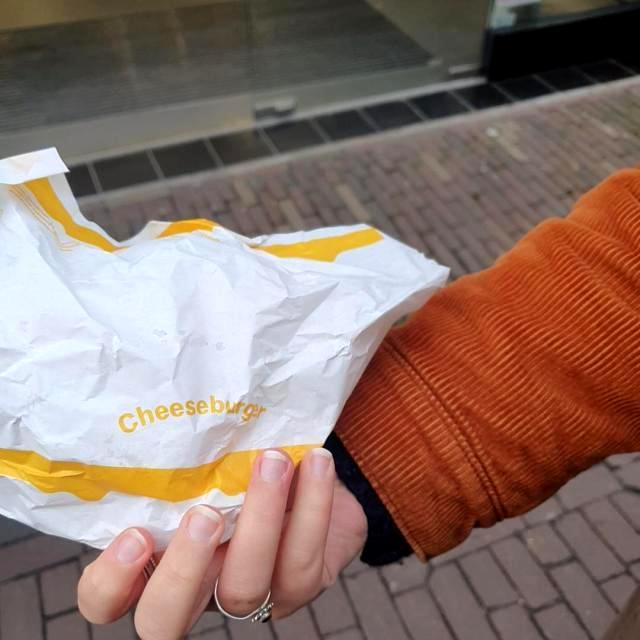Paper: (2, 140, 452, 562)
